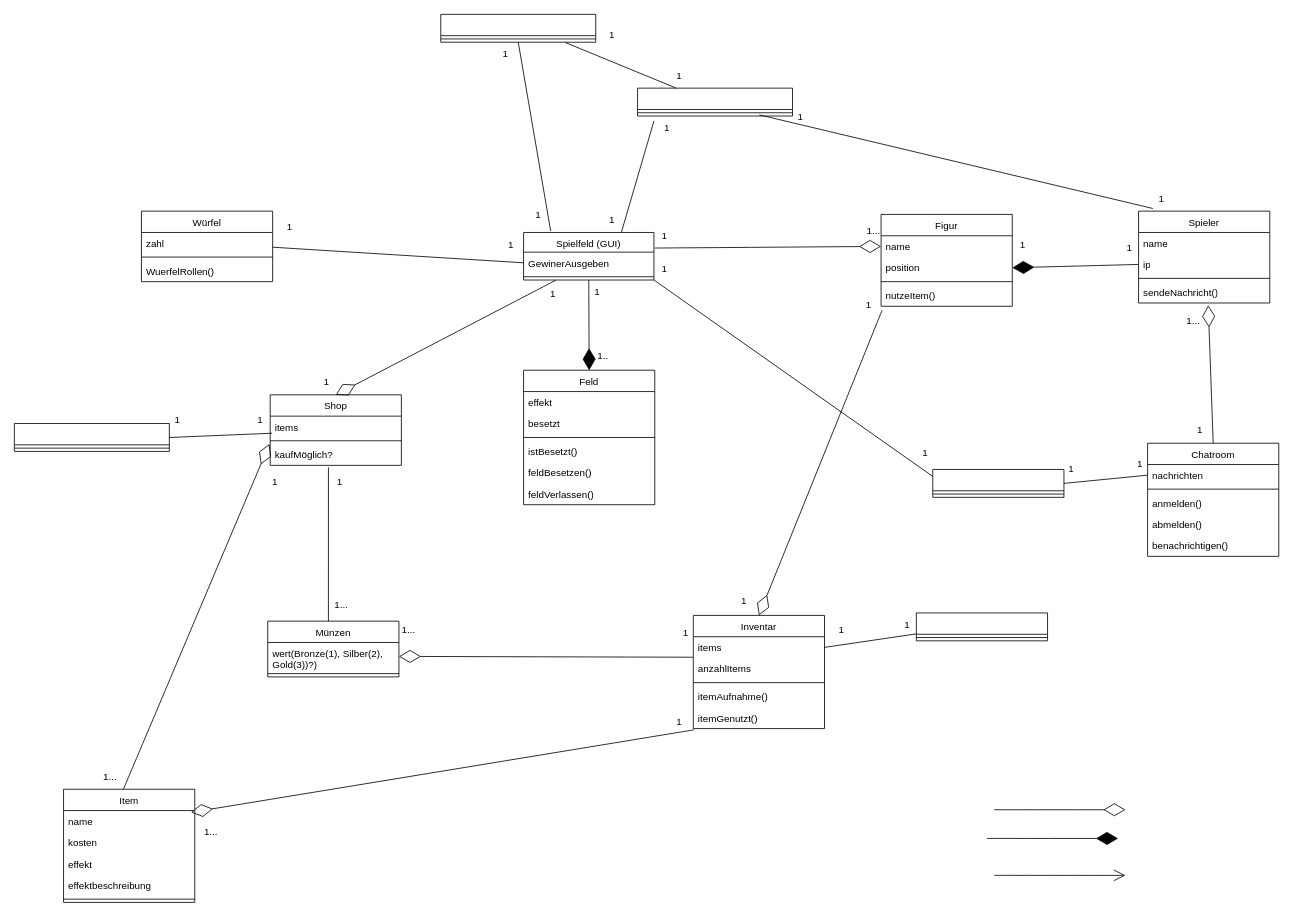
This 1293x917 diagram has some shape labels left out. Each missing label, with the centre of its shape:
"Chatroom (GUI)" belongs at pixel 998 483.
"Inventar (GUI)" belongs at pixel 982 626.
"Regelwerk (GUI)" belongs at pixel 518 28.
"Shop (GUI)" belongs at pixel 91 437.
"Startscreen (GUI)" belongs at pixel 715 101.
